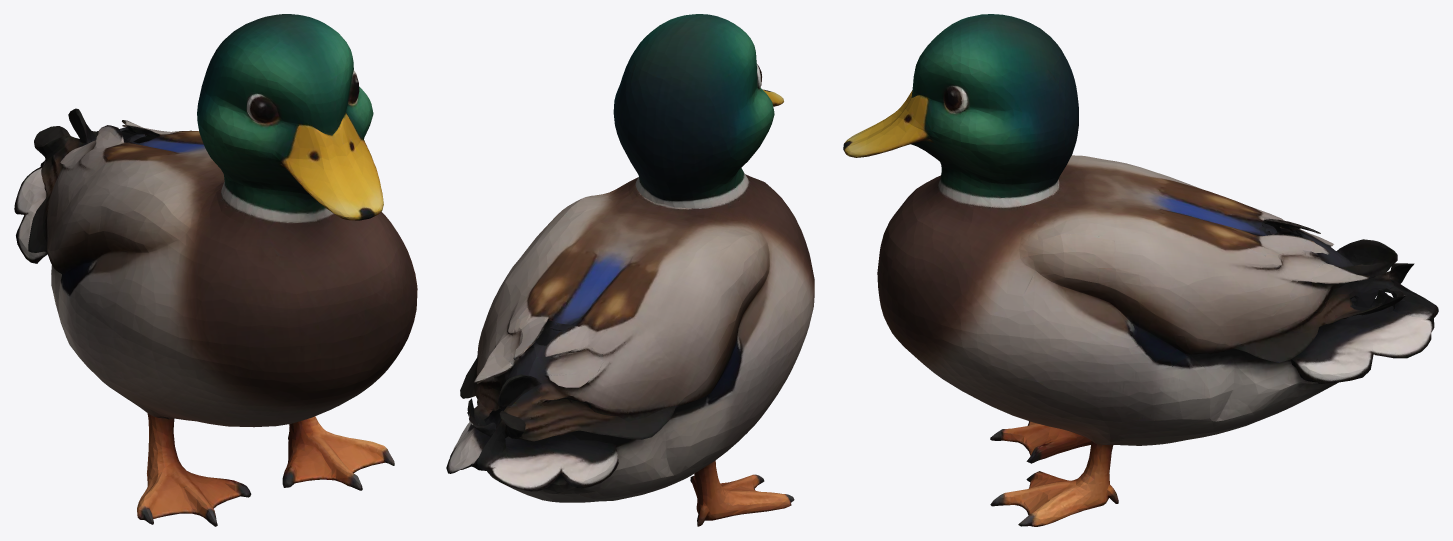
The model's file is mallard.glb.
3 views of the same model, side by side, from view 1: azimuth 30°, elevation 25°; view 2: azimuth 150°, elevation 25°; view 3: azimuth 270°, elevation 25° (orthographic). The views are drawn at different scales.
Parts seen in each view (by area): view 1: world; view 2: world; view 3: world.
Part boxes in pixels (x1=…): world: x1=14, y1=14, x2=417, y2=526; world: x1=446, y1=14, x2=814, y2=526; world: x1=843, y1=14, x2=1438, y2=526.
Size of the model in its own units: 0.4901 by 0.8388 by 1.
Materials: 1 (1 with a texture image).
